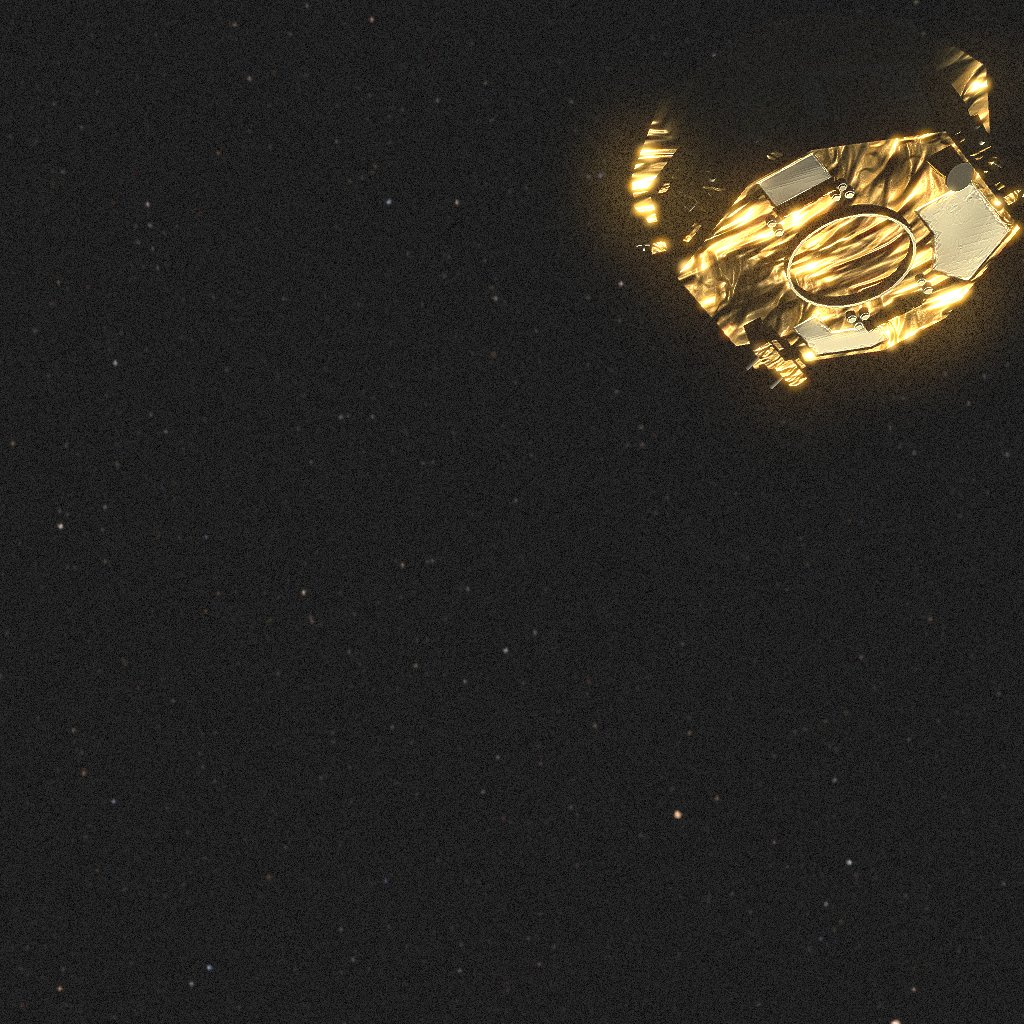lisa_pathfinder: (627, 54, 994, 405)
